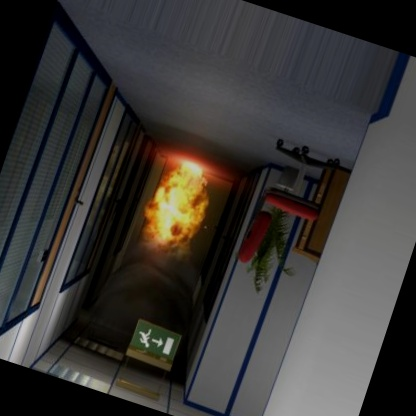fire: (113, 131, 235, 281)
